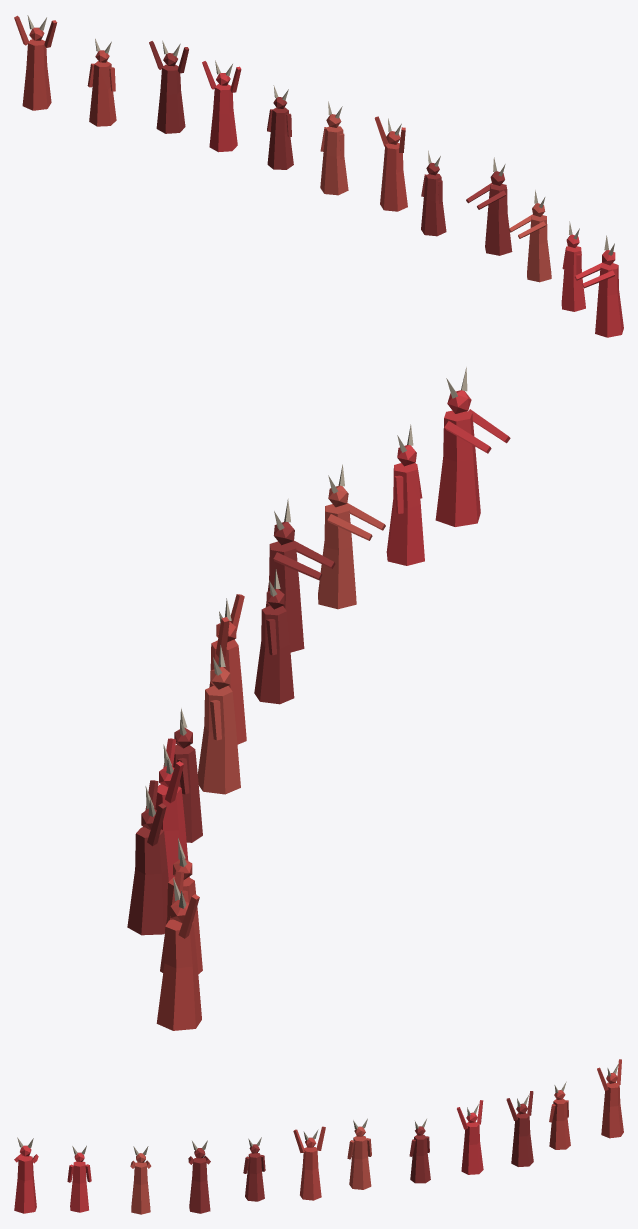
File: Stands_8_1_2.obj
The picture shows the model from 3 angles, top to bottom: view 1: azimuth 30°, elevation 25°; view 2: azimuth 150°, elevation 25°; view 3: azimuth 270°, elevation 25°; orthographic projection. The views are drawn at different scales.
Visible parts, largest first — view 1: Stands_8_1_2; view 2: Stands_8_1_2; view 3: Stands_8_1_2.
Boxes of the visible parts, x1,y1,x2,y2 form: Stands_8_1_2: (14,15,623,337); Stands_8_1_2: (127,367,510,1030); Stands_8_1_2: (14,1059,623,1214).
Size of the model in its own units: 10.84 by 4.17 by 31.84.
1 material, 1 textured.
